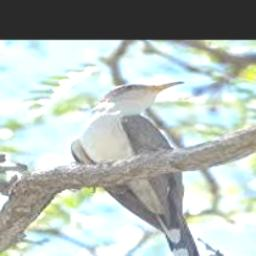Cuckoo: (71, 81, 206, 256)
